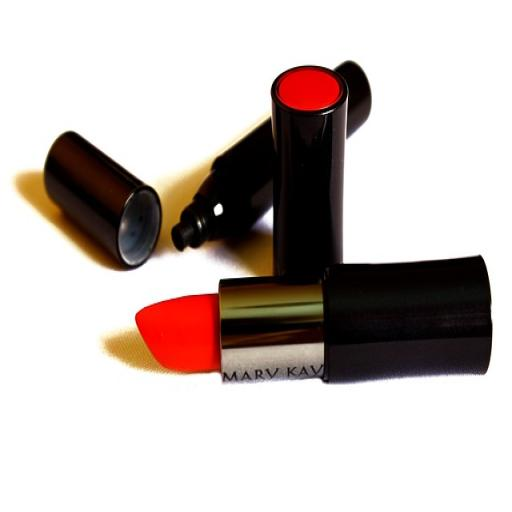lipstick: (136, 257, 491, 382), (172, 119, 275, 250)
